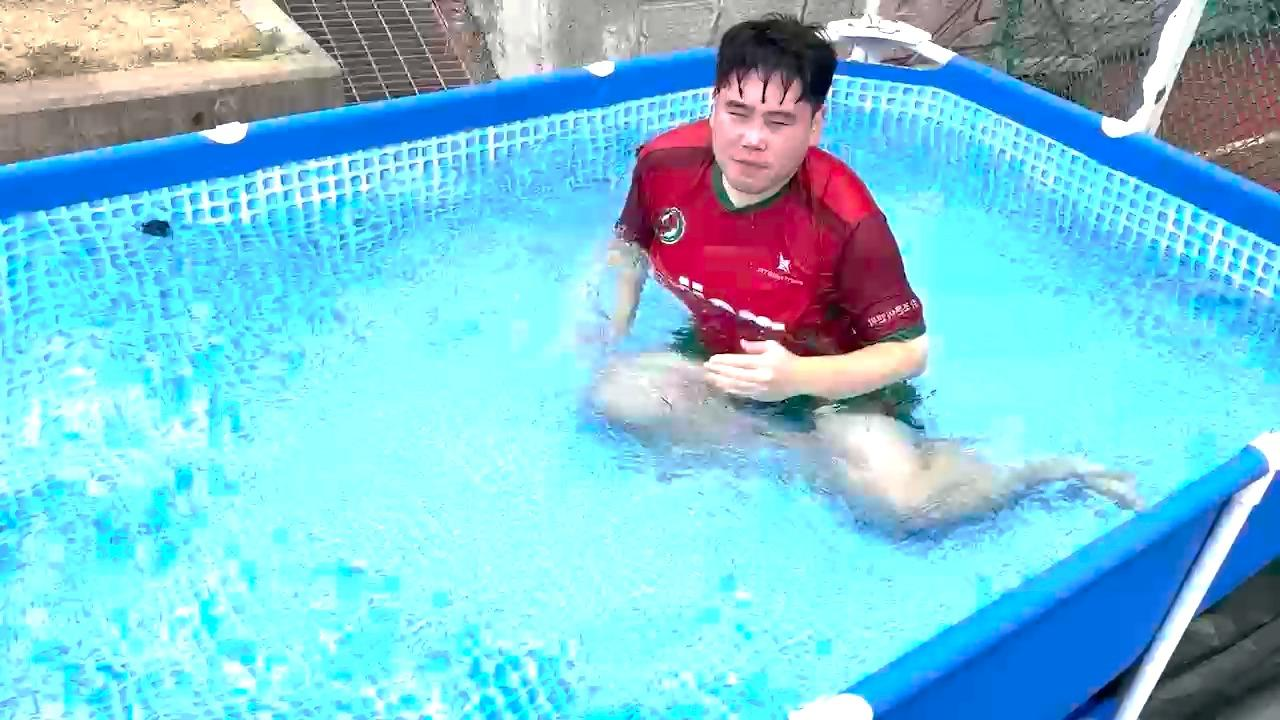Swimming: (545, 32, 1102, 510)
